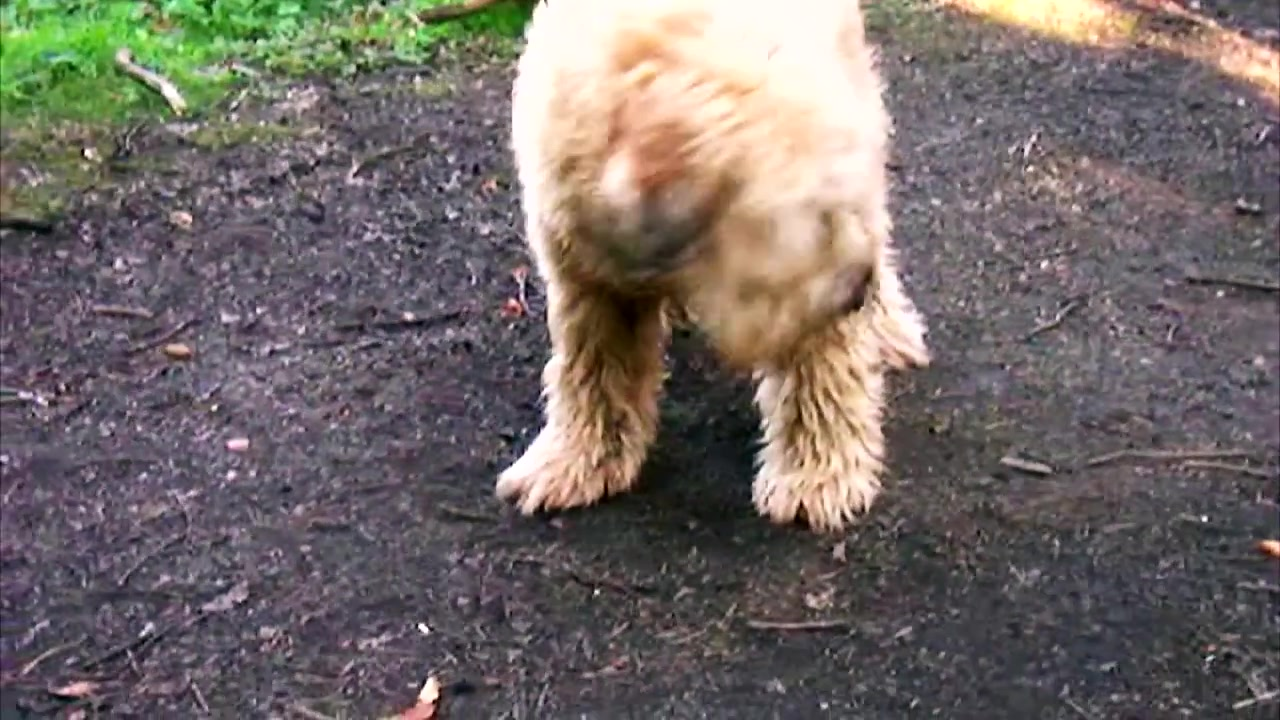dog: (496, 1, 935, 537)
